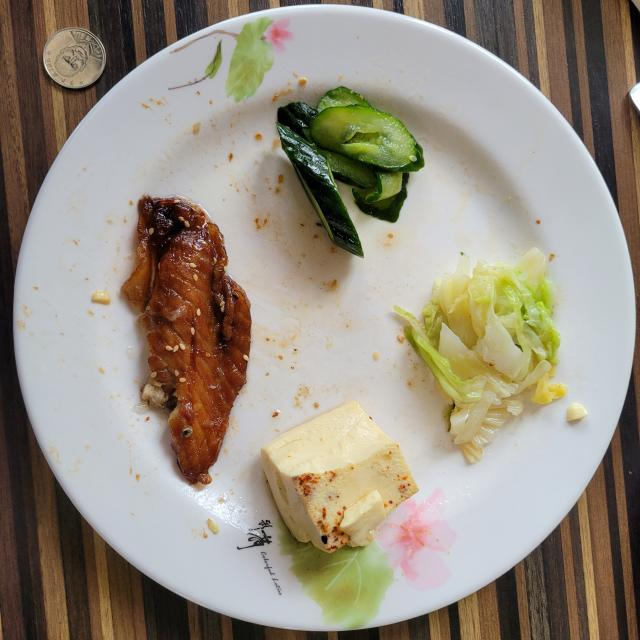Kabayaki sea bream fillet: (122, 196, 251, 484)
cabbage: (395, 248, 568, 462)
coin: (42, 28, 106, 89)
cucumber: (278, 86, 424, 256)
